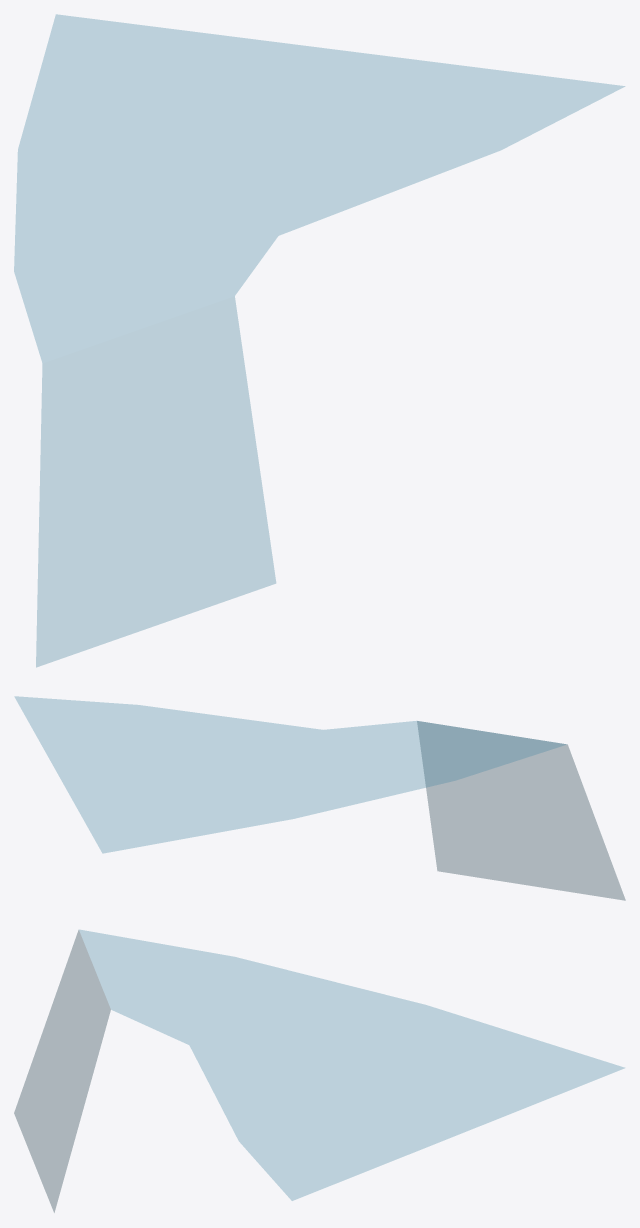
File: water_mid L.fbx
3 views of the same model, one above another, from view 1: azimuth 30°, elevation 25°; view 2: azimuth 150°, elevation 25°; view 3: azimuth 270°, elevation 25° (orthographic). The views are drawn at different scales.
Visible parts, largest first — view 1: water_mid L.001; view 2: water_mid L.001; view 3: water_mid L.001.
Part boxes in pixels (left/top/right/bottom): water_mid L.001: left=14, top=14, right=624, bottom=667; water_mid L.001: left=14, top=696, right=625, bottom=900; water_mid L.001: left=14, top=929, right=624, bottom=1212.
Bounding box in the file's own units: 12.03 × 3.91 × 10.72.
